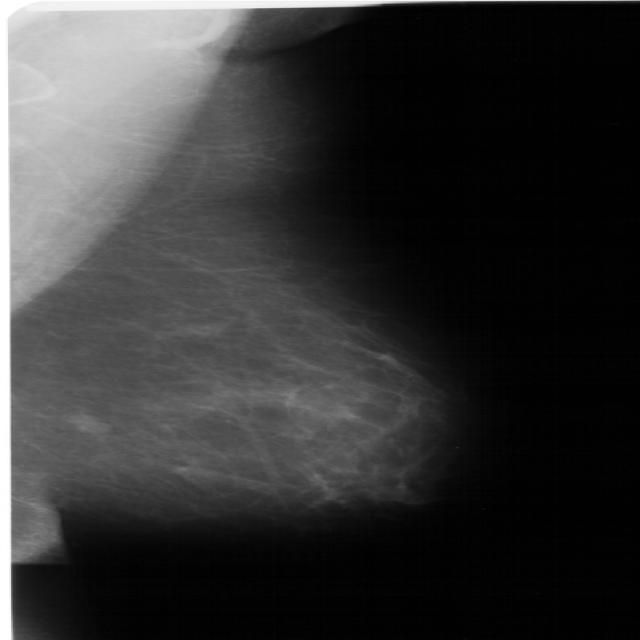tumour: (61, 412, 107, 432)
